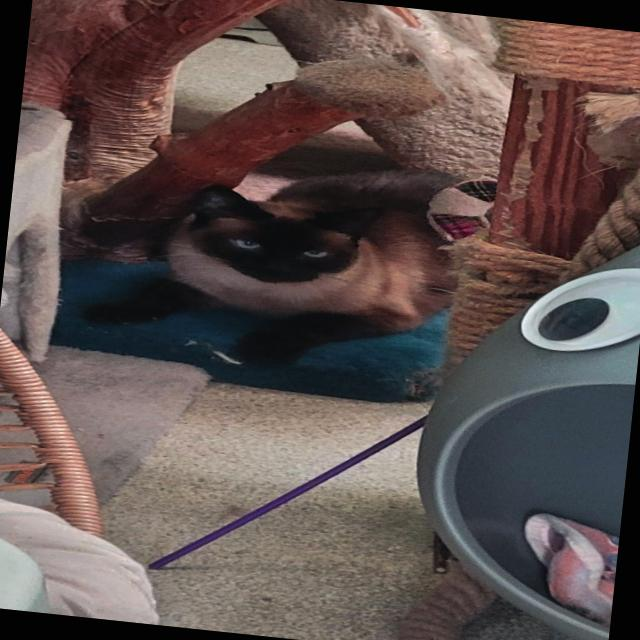siamese_cat: (150, 170, 407, 308)
